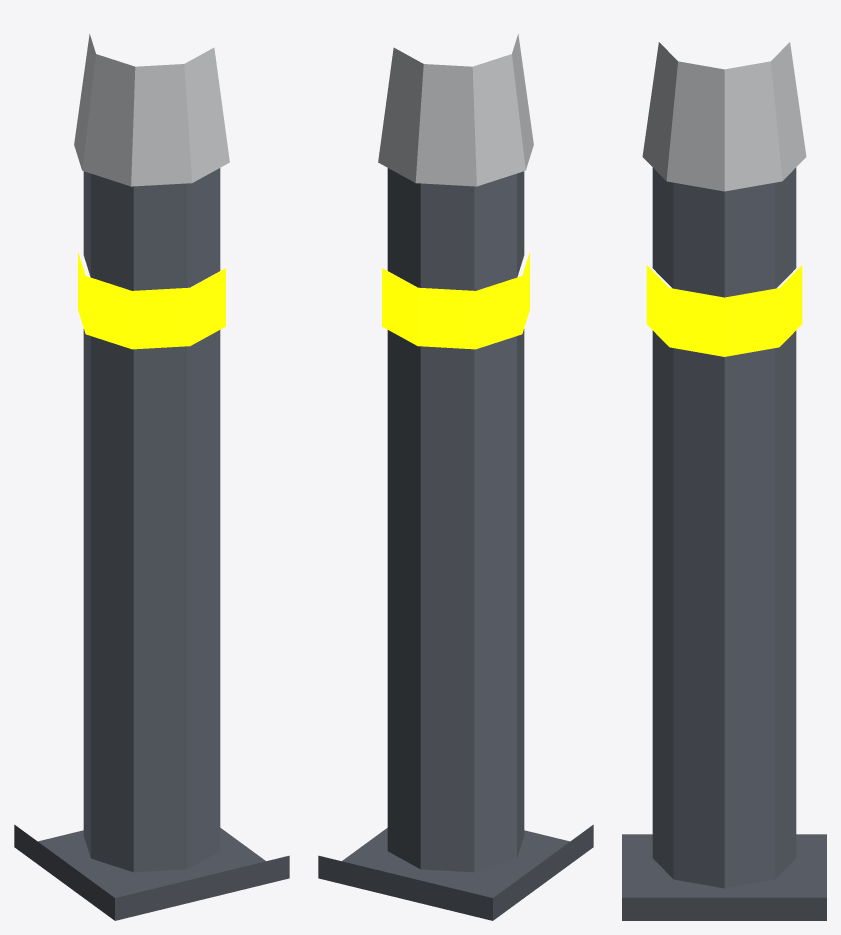
Rendered from ext_bollard_04.glb.
3 renders of one model, left to right at view 1: azimuth 30°, elevation 25°; view 2: azimuth 150°, elevation 25°; view 3: azimuth 270°, elevation 25°, orthographic.
Visible parts, largest first — view 1: Post, Cap, Flange, Amber_Band; view 2: Post, Cap, Flange, Amber_Band; view 3: Post, Cap, Flange, Amber_Band.
Boxes of the visible parts, box(x1,y1,x2,y2) form: Post: box(83, 168, 220, 872); Cap: box(74, 34, 229, 186); Flange: box(14, 824, 289, 920); Amber_Band: box(78, 252, 225, 349); Post: box(387, 168, 524, 872); Cap: box(378, 34, 533, 186); Flange: box(318, 824, 593, 920); Amber_Band: box(382, 252, 529, 349); Post: box(652, 167, 796, 888); Cap: box(642, 42, 806, 191); Flange: box(622, 834, 826, 920); Amber_Band: box(646, 265, 802, 356).
Size of the model in its own units: 0.2 by 0.9 by 0.2.
